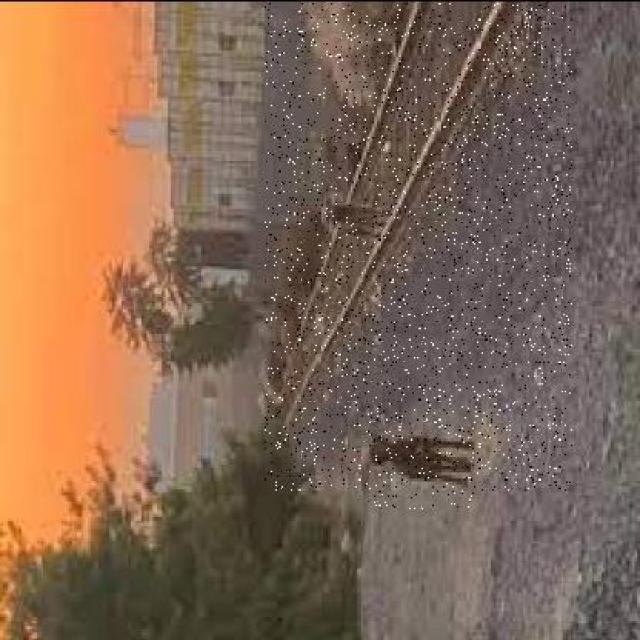rail: (268, 3, 573, 489)
